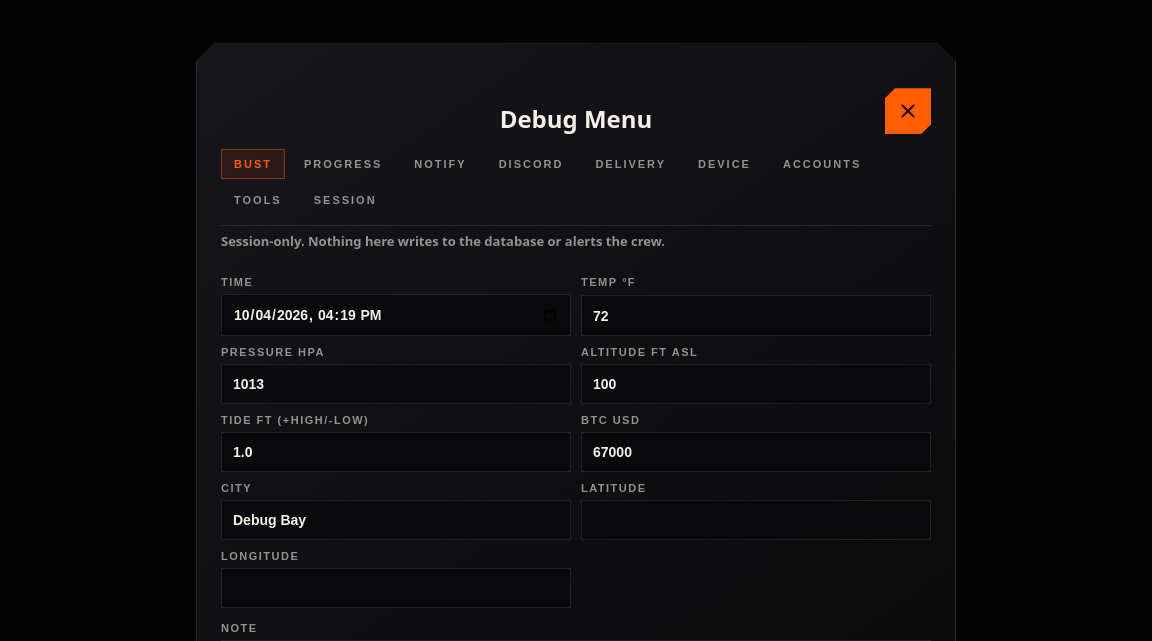
Test: DebugMenu › surfaces a refusal from the server
This screenshot has width=1152, height=641.
Click the tab "ACCOUNTS" at (822, 164), box [770,149,874,179]
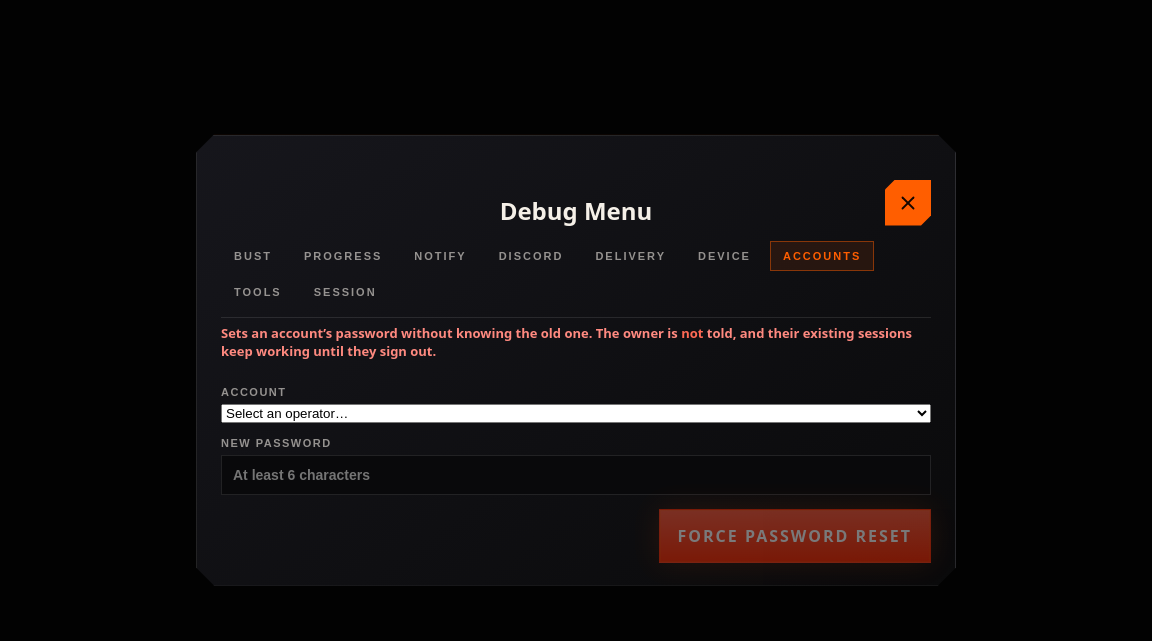
Select "Ann" in the dropdown labelled "Account" at (576, 413), box [221,404,931,422]
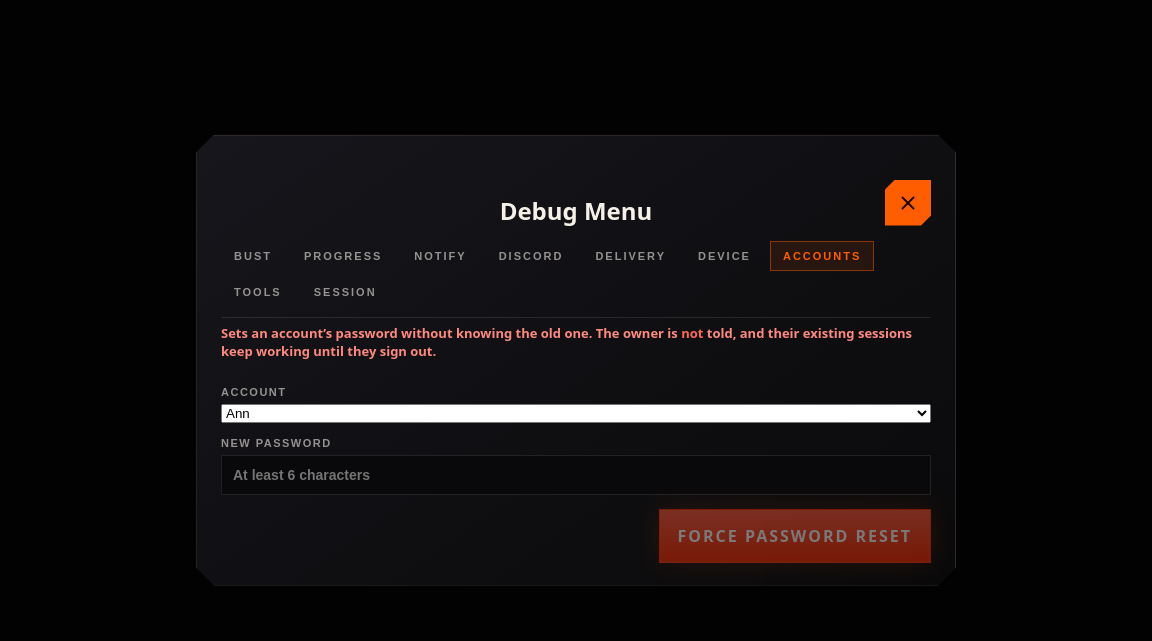
Type "long-enough" into the field labelled "New password" at (576, 474), box [221,454,931,494]
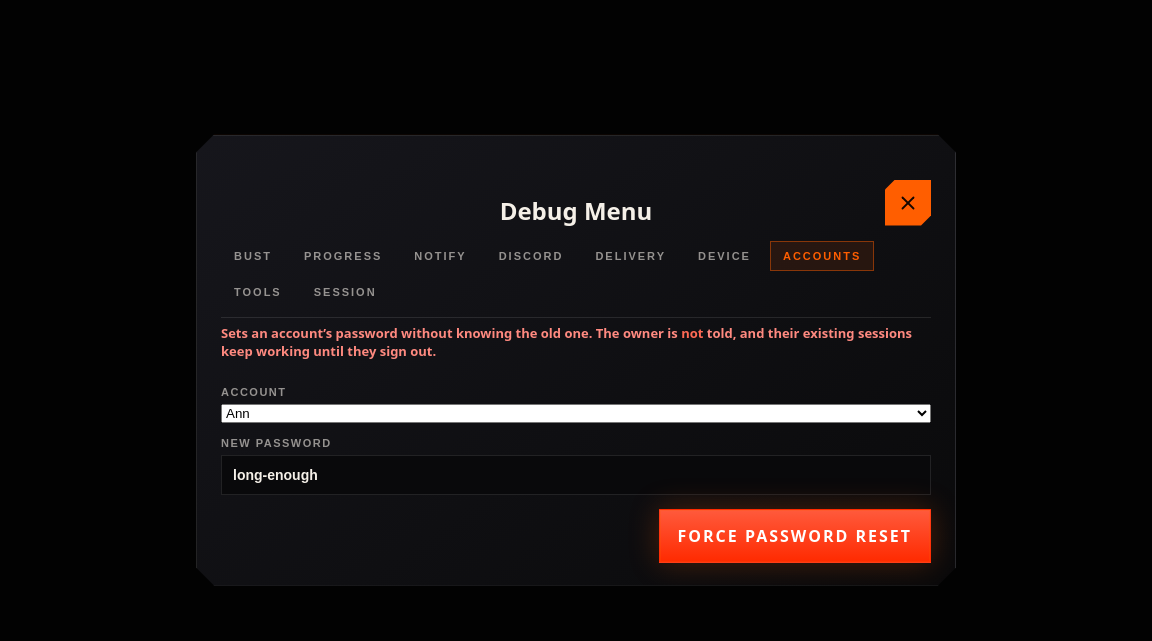
Click the button "FORCE PASSWORD RESET" at (795, 536), box [658,508,931,562]
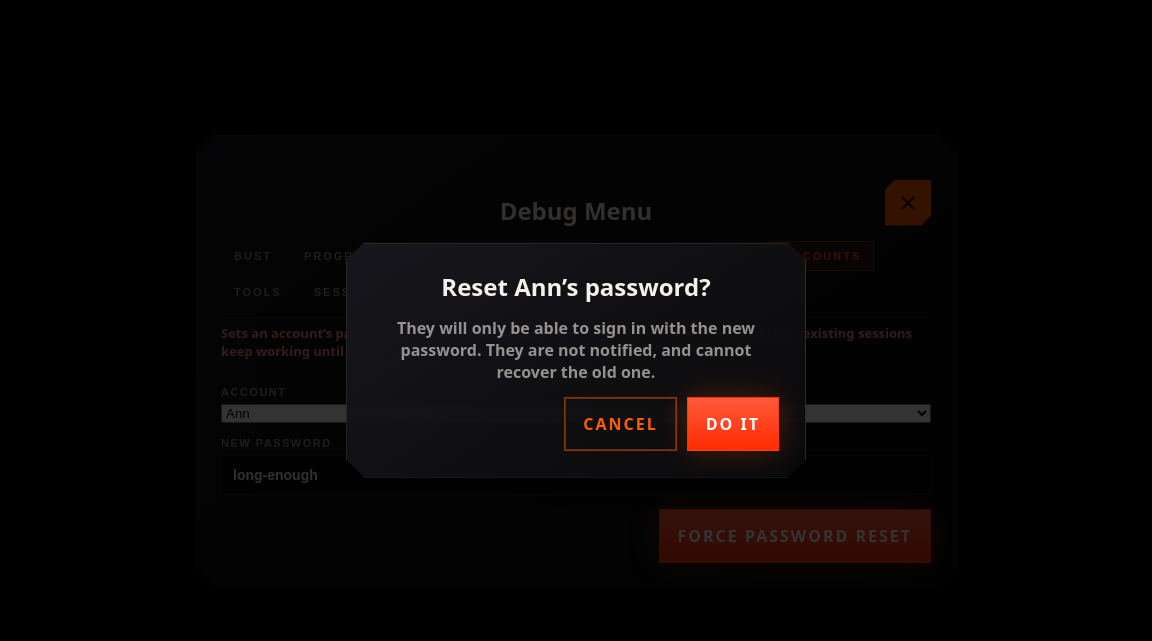
Click the button "DO IT" at (733, 424), box [687,396,779,450]
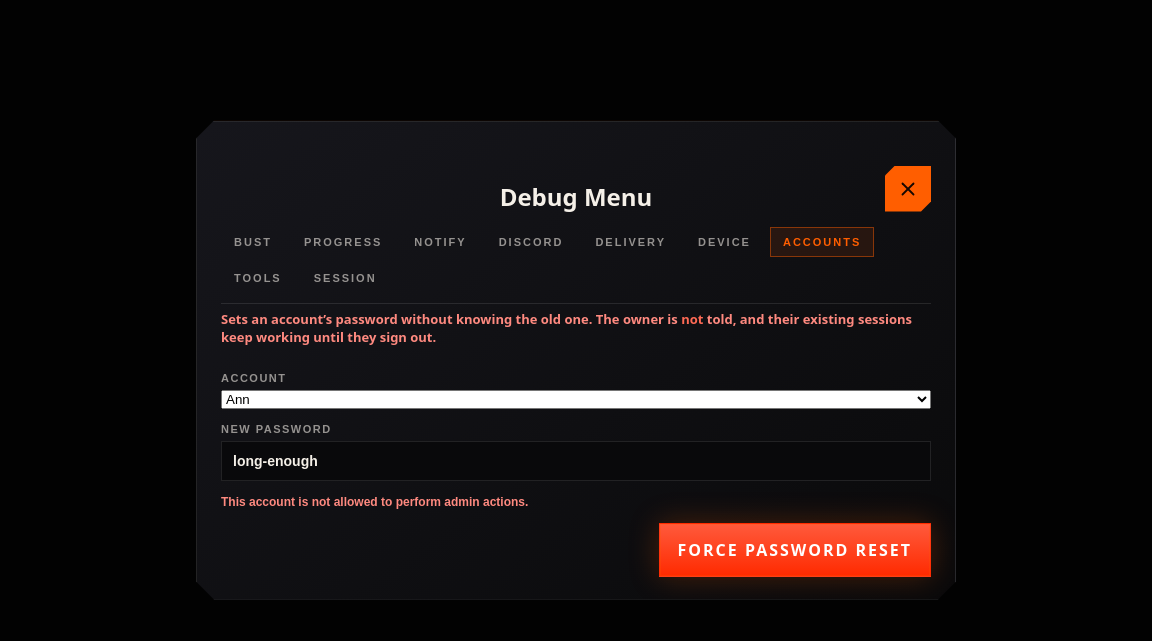
Expected: the text "This account is not allowed to perform admin actions." is shown, [221,494,528,508]
